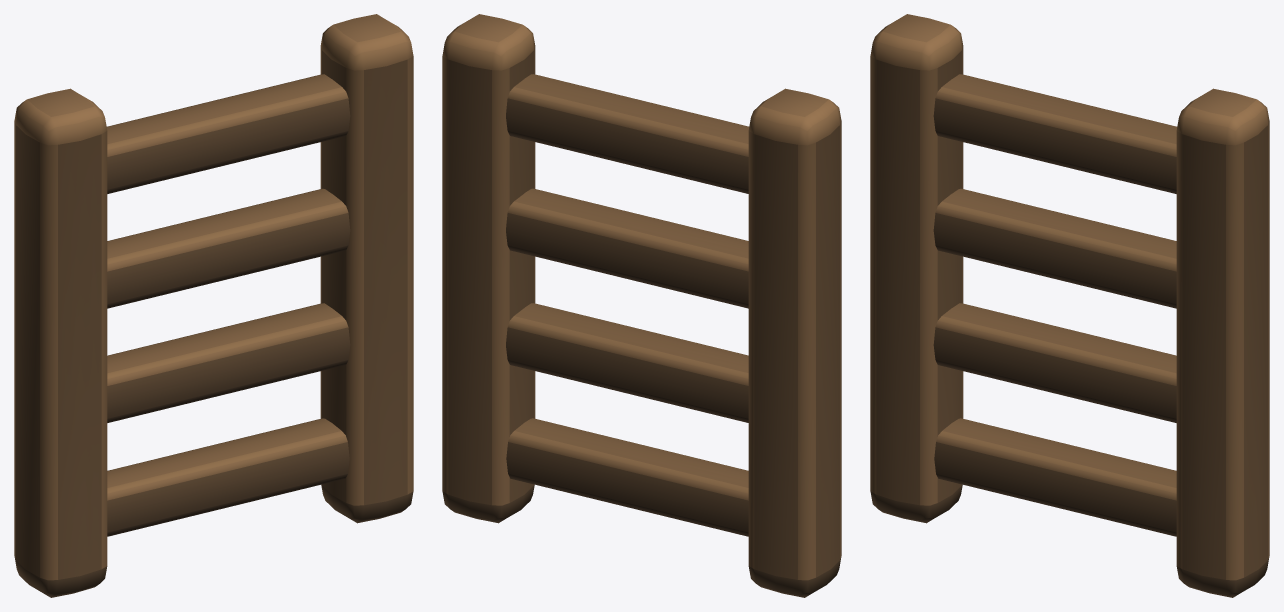
File: Sandstone_Ladder.fbx
3 renders of one model, left to right at view 1: azimuth 30°, elevation 25°; view 2: azimuth 150°, elevation 25°; view 3: azimuth 330°, elevation 25°, orthographic.
Visible parts, largest first — view 1: Sandstone_Ladder_LOD0; view 2: Sandstone_Ladder_LOD0; view 3: Sandstone_Ladder_LOD0.
Part boxes in pixels (box(x1,y1,x2,y2)): Sandstone_Ladder_LOD0: box(14, 14, 413, 597); Sandstone_Ladder_LOD0: box(442, 14, 841, 597); Sandstone_Ladder_LOD0: box(870, 14, 1269, 597).
Size of what is drawn, in the model's own units: 0.8613 by 1.05 by 0.1617.
